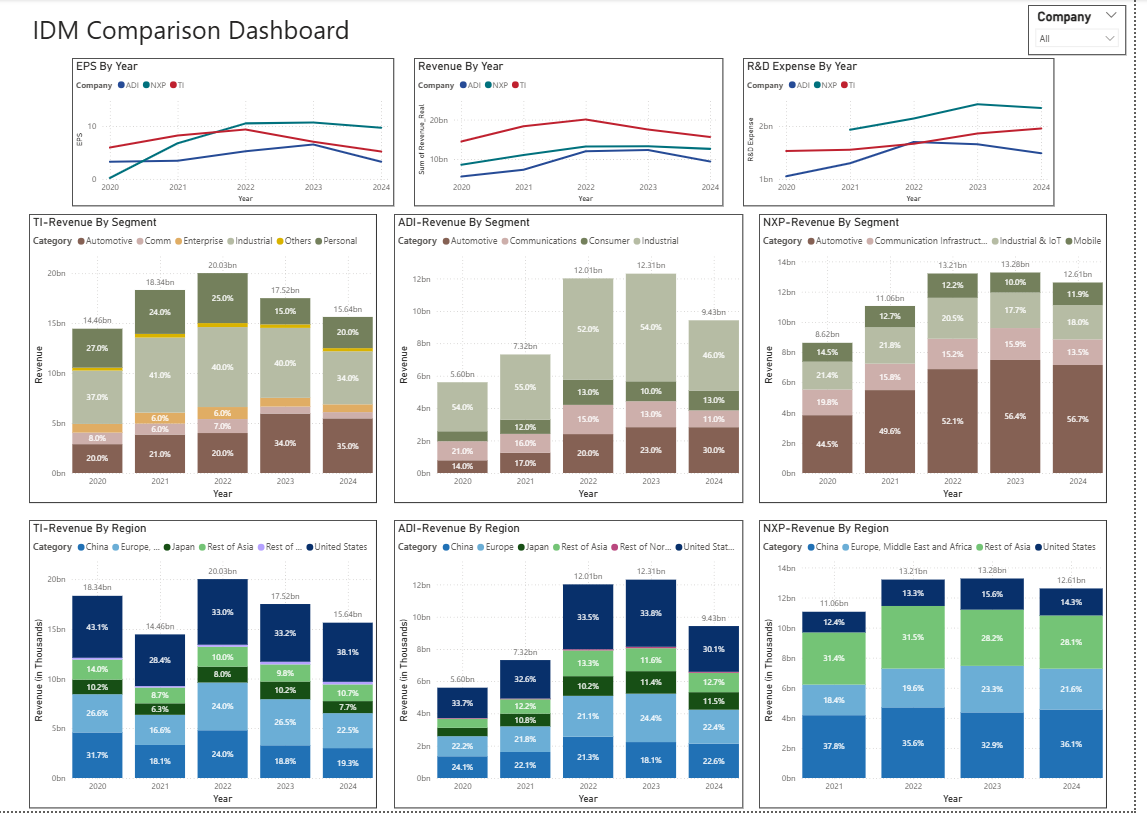

The dashboard page shown, as its layout file describes it:
{"tool":"powerbi","page":{"name":"Dashboard","canvas":[1680,1200],"ordinal":0},"visuals":[{"type":"lineChart","title":"Revenue By Year","fields":{"Category":["Clean.Year"],"Series":["Clean.Company"],"Y":["Sum(Clean.Revenue_Real)"]},"box":[614.8,87.2,456.7,218.7],"z":0},{"type":"lineChart","title":"EPS By Year","fields":{"Category":["Clean.Year"],"Y":["Sum(Clean.Index)"],"Series":["Clean.Company"]},"box":[109.4,87.2,475.9,218.7],"z":1000},{"type":"lineChart","title":"R&D Expense By Year","fields":{"Category":["Clean.Year"],"Series":["Clean.Company"],"Y":["Sum(Clean.R&D_Real)"]},"box":[1101,87.2,459.6,218.7],"z":2000},{"type":"columnChart","title":"ADI-Revenue By Segment","fields":{"Category":["Clean.Year"],"Series":["Clean.Category"],"Y":["Sum(Clean.Industry_Revenue)"]},"box":[585.2,317.7,515.8,427.1],"z":3000},{"type":"columnChart","title":"TI-Revenue By Segment","fields":{"Category":["Clean.Year"],"Series":["Clean.Category"],"Y":["Sum(Clean.Industry_Revenue)"]},"box":[45.8,317.7,514.3,427.1],"z":4000},{"type":"columnChart","title":"NXP-Revenue By Segment","fields":{"Category":["Clean.Year"],"Series":["Clean.Category"],"Y":["Sum(Clean.Industry_Revenue)"]},"box":[1124.6,317.7,514.3,427.1],"z":5000},{"type":"columnChart","title":"TI-Revenue By Region","fields":{"Category":["Clean.Year"],"Y":["Sum(Clean.Region_Real)"],"Series":["Clean.Category"]},"box":[45.8,770,514.3,425.6],"z":5001},{"type":"columnChart","title":"ADI-Revenue By Region","fields":{"Category":["Clean.Year"],"Series":["Clean.Category"],"Y":["Sum(Clean.Region_Real)"]},"box":[585.2,770,515.8,425.6],"z":5002},{"type":"columnChart","title":"NXP-Revenue By Region","fields":{"Category":["Clean.Year"],"Series":["Clean.Category"],"Y":["Sum(Clean.Region_Real)"]},"box":[1124.6,770,514.3,425.6],"z":5003},{"type":"slicer","fields":{"Values":["Clean.Company"]},"box":[1522.2,8.9,144.8,73.9],"z":5005},{"type":"textbox","box":[45.8,14.8,539.4,68],"z":5006}]}

Visuals, with their boxes in screenshot pixels (x1, y1, x2, y2), scaled from the page's 1680x1200 canvas onto the 1147x815 screenshot:
"Revenue By Year" lineChart: [420, 59, 732, 208]
"EPS By Year" lineChart: [75, 59, 400, 208]
"R&D Expense By Year" lineChart: [752, 59, 1065, 208]
"ADI-Revenue By Segment" columnChart: [400, 216, 752, 506]
"TI-Revenue By Segment" columnChart: [31, 216, 382, 506]
"NXP-Revenue By Segment" columnChart: [768, 216, 1119, 506]
"TI-Revenue By Region" columnChart: [31, 523, 382, 812]
"ADI-Revenue By Region" columnChart: [400, 523, 752, 812]
"NXP-Revenue By Region" columnChart: [768, 523, 1119, 812]
slicer - Clean.Company: [1039, 6, 1138, 56]
textbox: [31, 10, 400, 56]
